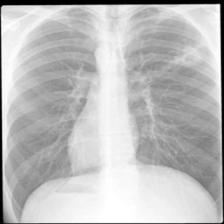tuberculosis: (2, 5, 223, 224)
